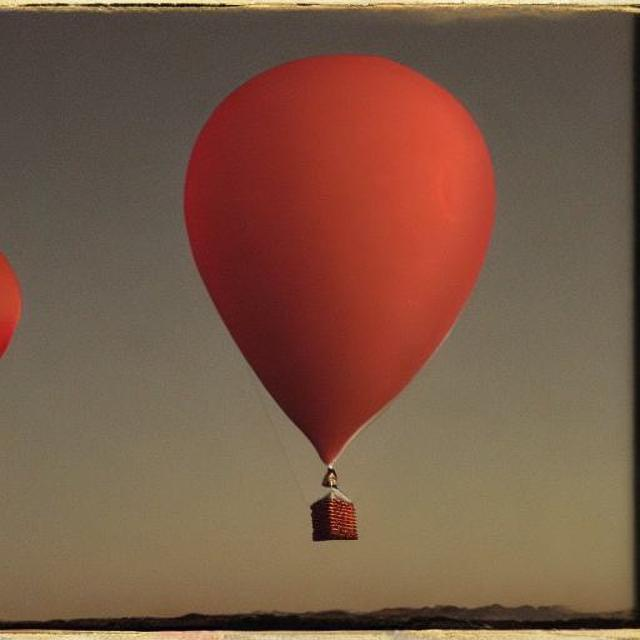balloon: (171, 43, 493, 479), (0, 241, 24, 358)
